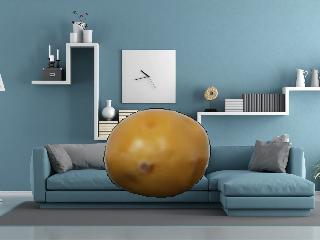potato: (101, 104, 215, 201)
